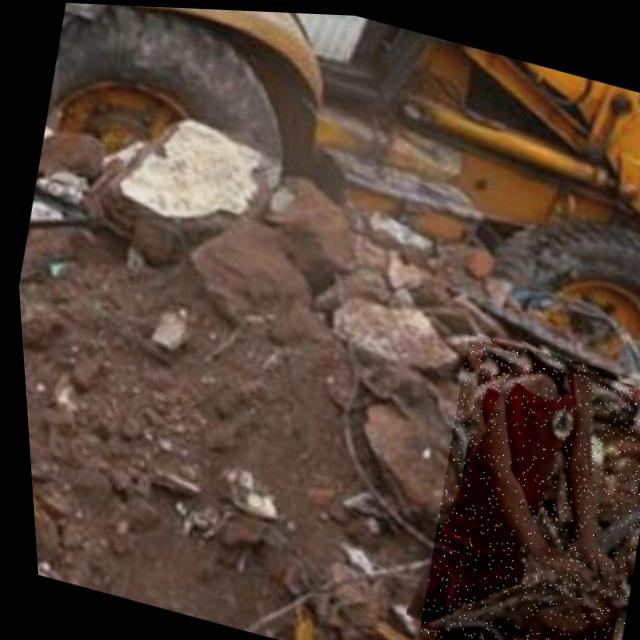Person in Rubble: (391, 325, 640, 640)
